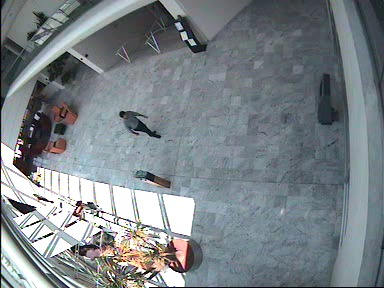person: (119, 111, 161, 138), (70, 200, 101, 218)
